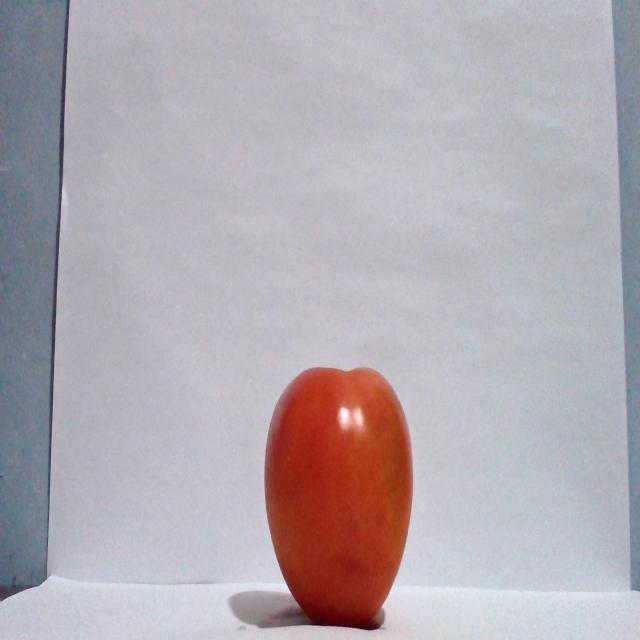Red: (262, 364, 414, 628)
